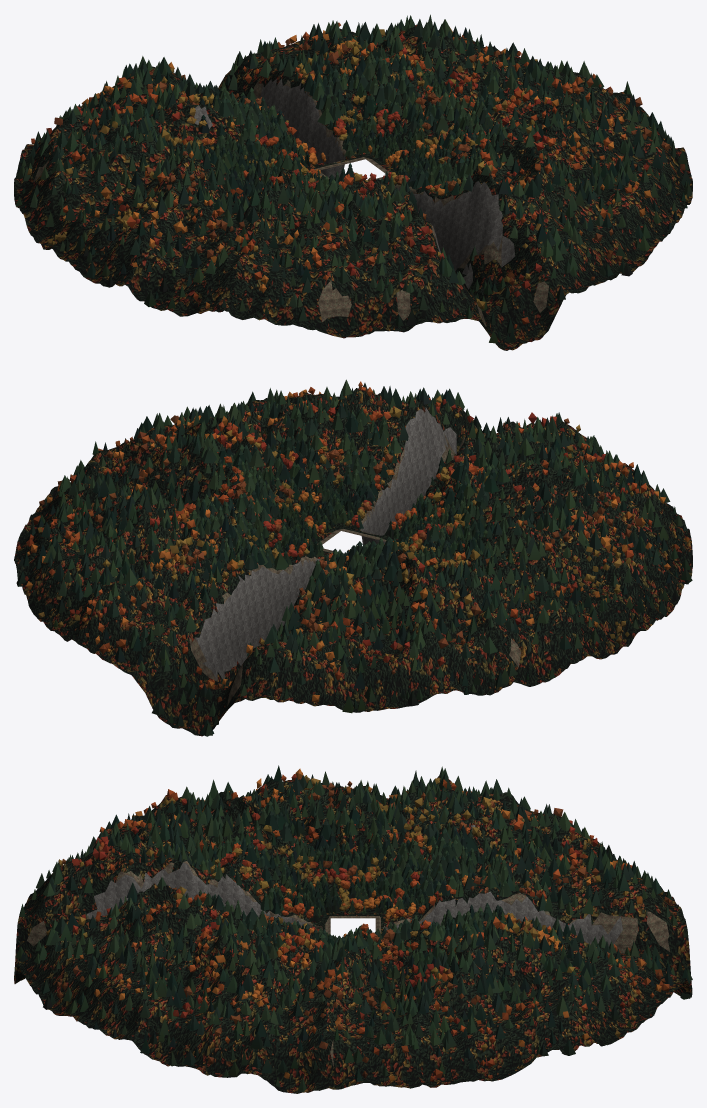
File: backdrop_near_rect_bluffs_autumn.glb
The picture shows the model from 3 angles, top to bottom: view 1: azimuth 30°, elevation 25°; view 2: azimuth 150°, elevation 25°; view 3: azimuth 270°, elevation 25°; orthographic projection.
Parts seen in each view (by area): view 1: near_land_S, near_land_W, trees_land_W_0, trees_land_S_0, trees_land_E_0, trees_land_N_0, near_land_E, near_land_N; view 2: near_land_N, near_land_W, trees_land_N_0, trees_land_W_0, trees_land_E_0, trees_land_S_0, near_land_S, near_land_E; view 3: near_land_E, trees_land_E_0, near_land_S, trees_land_W_0, trees_land_N_0, near_land_N, trees_land_S_0, near_land_W.
Part boxes in pixels (x1,y1,x2,y2): near_land_S: (265,127,681,350); near_land_W: (14,102,317,320); trees_land_W_0: (16,95,324,314); trees_land_S_0: (277,120,677,343); trees_land_E_0: (368,19,692,210); trees_land_N_0: (31,14,432,166); near_land_E: (363,26,692,218); near_land_N: (26,28,431,178); near_land_N: (26,511,440,736); near_land_W: (393,463,692,695); trees_land_N_0: (38,502,437,736); trees_land_W_0: (382,458,692,695); trees_land_E_0: (16,388,341,589); trees_land_S_0: (274,379,670,539); near_land_S: (275,388,676,544); near_land_E: (14,398,345,594); near_land_E: (114,915,593,1093); trees_land_E_0: (121,904,589,1092); near_land_S: (14,815,329,1038); trees_land_W_0: (132,765,572,914); trees_land_N_0: (384,812,692,1037); near_land_N: (380,818,692,1046); trees_land_S_0: (15,804,321,1037); near_land_W: (139,776,561,919).
Size of the model in its own units: 576 by 175 by 577.
Materials: 4 (3 with a texture image).
